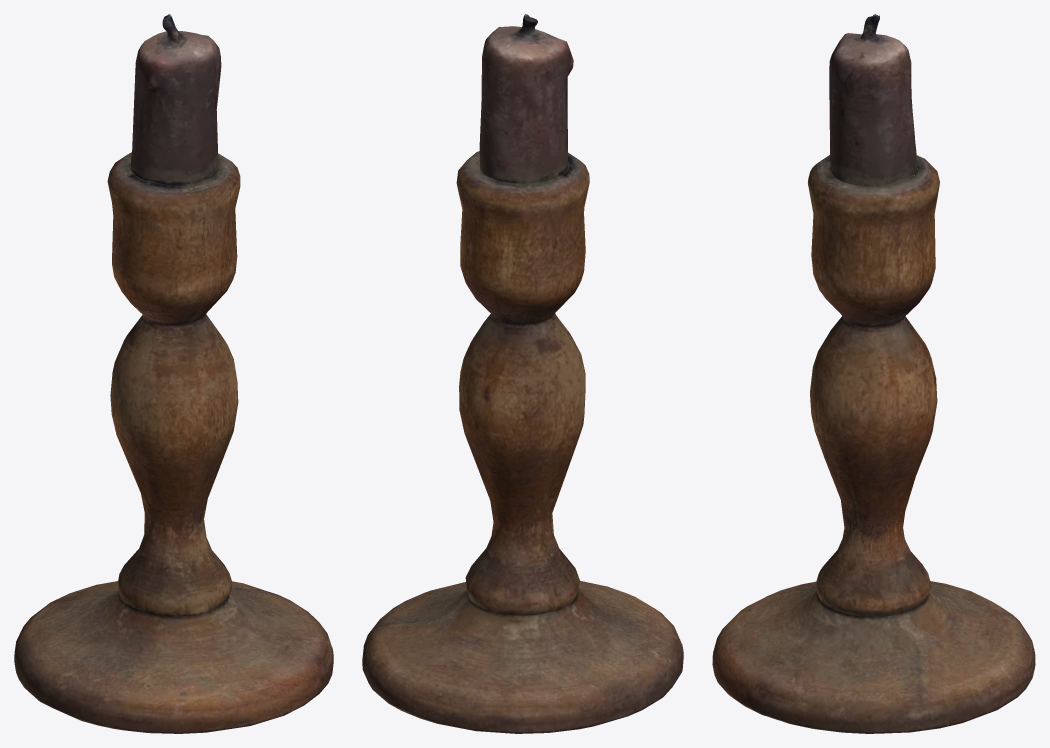
Rendered from wooden_candlestick.glb.
3 renders of one model, left to right at view 1: azimuth 30°, elevation 25°; view 2: azimuth 150°, elevation 25°; view 3: azimuth 270°, elevation 25°, orthographic.
Parts seen in each view (by area): view 1: wooden_candlestick; view 2: wooden_candlestick; view 3: wooden_candlestick.
Part boxes in pixels (x1=…): wooden_candlestick: x1=14, y1=14, x2=333, y2=733; wooden_candlestick: x1=362, y1=14, x2=683, y2=733; wooden_candlestick: x1=712, y1=14, x2=1035, y2=733.
Size of the model in its own units: 0.0972 by 0.2196 by 0.0986.
Materials: 1 (1 with a texture image).
